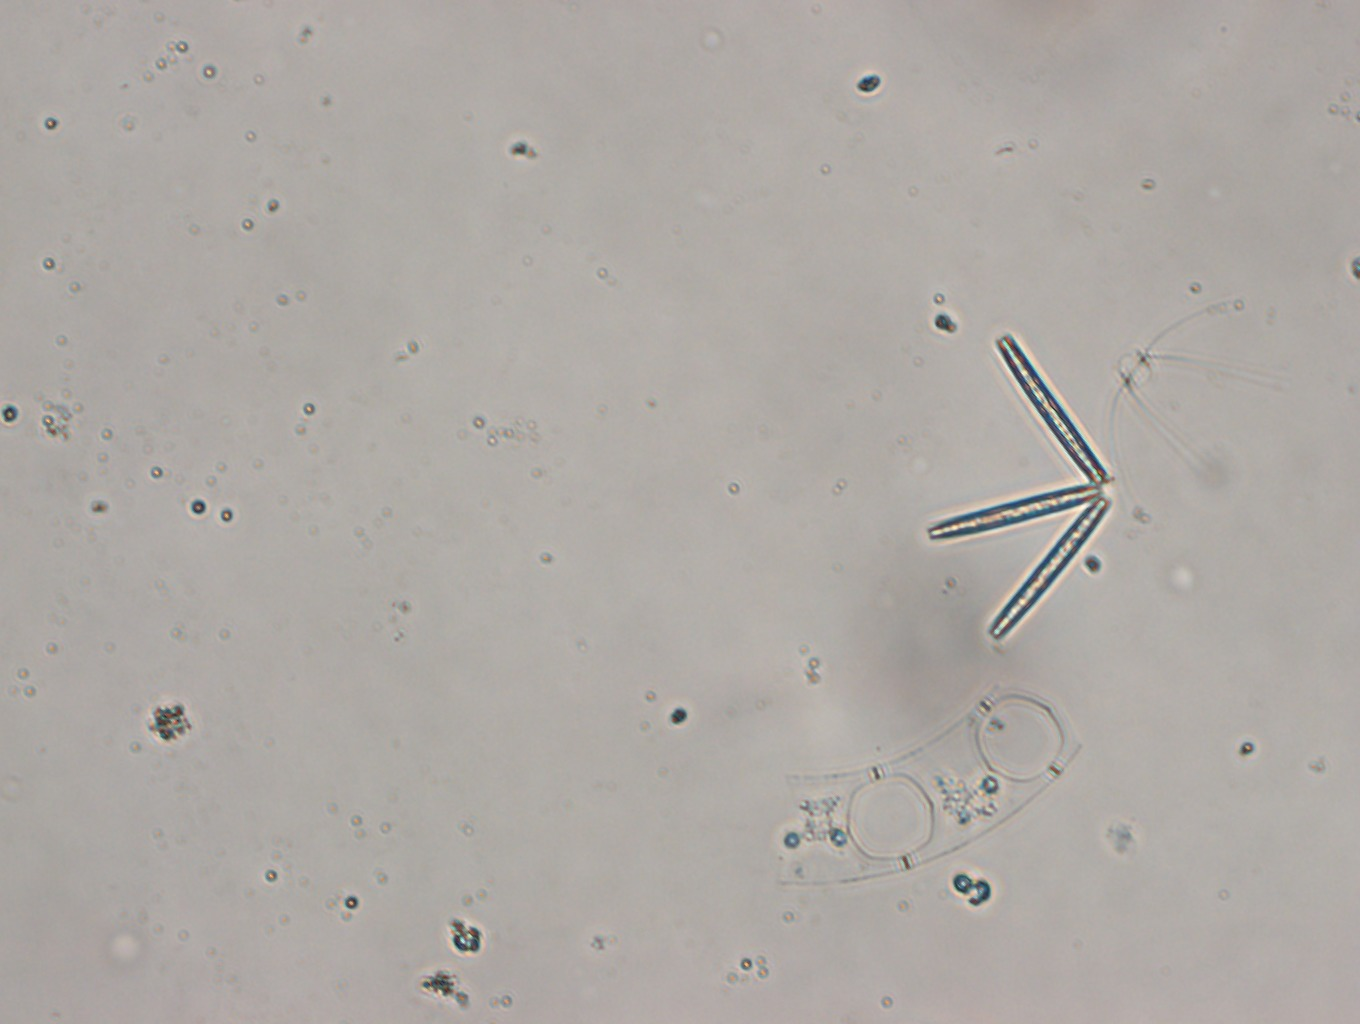chaetoceros: (1115, 295, 1279, 504)
eucampia: (771, 672, 1086, 891)
thalassionema nitzschioides: (924, 321, 1116, 639)
